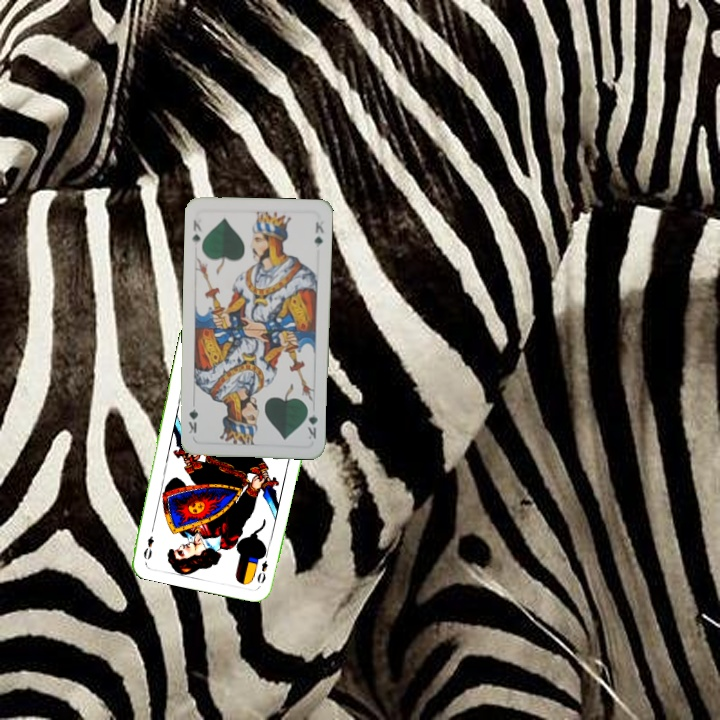EO: (253, 547, 271, 586)
GK: (303, 402, 320, 442), (188, 216, 205, 245)
